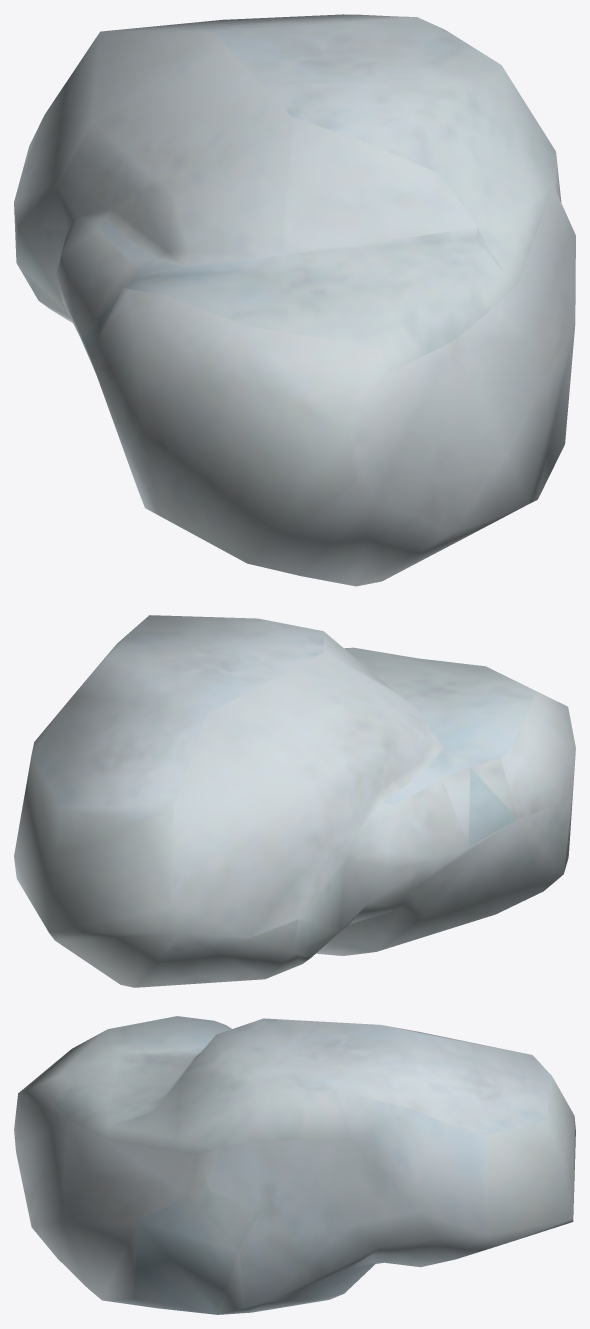
File: P_RockClassic13.obj
3 views of the same model, one above another, from view 1: azimuth 30°, elevation 25°; view 2: azimuth 150°, elevation 25°; view 3: azimuth 270°, elevation 25° (orthographic). The views are drawn at different scales.
Bounding box in the file's own units: 2.96 × 2.07 × 4.17.
